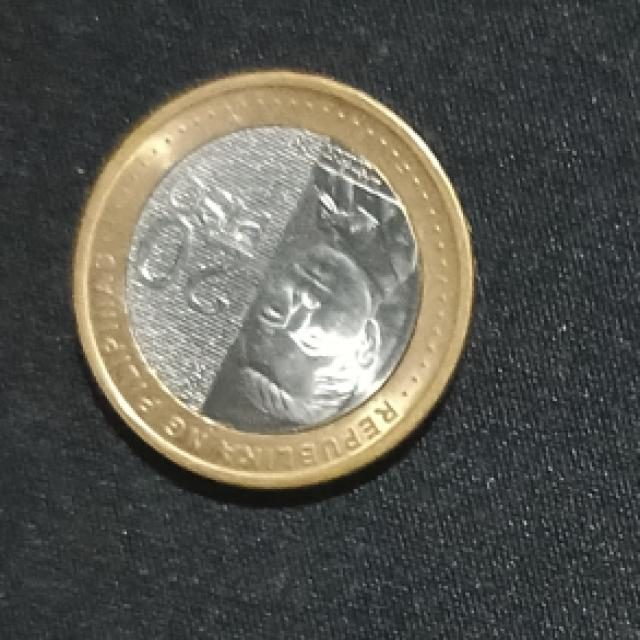20_peso: (74, 74, 470, 485)
